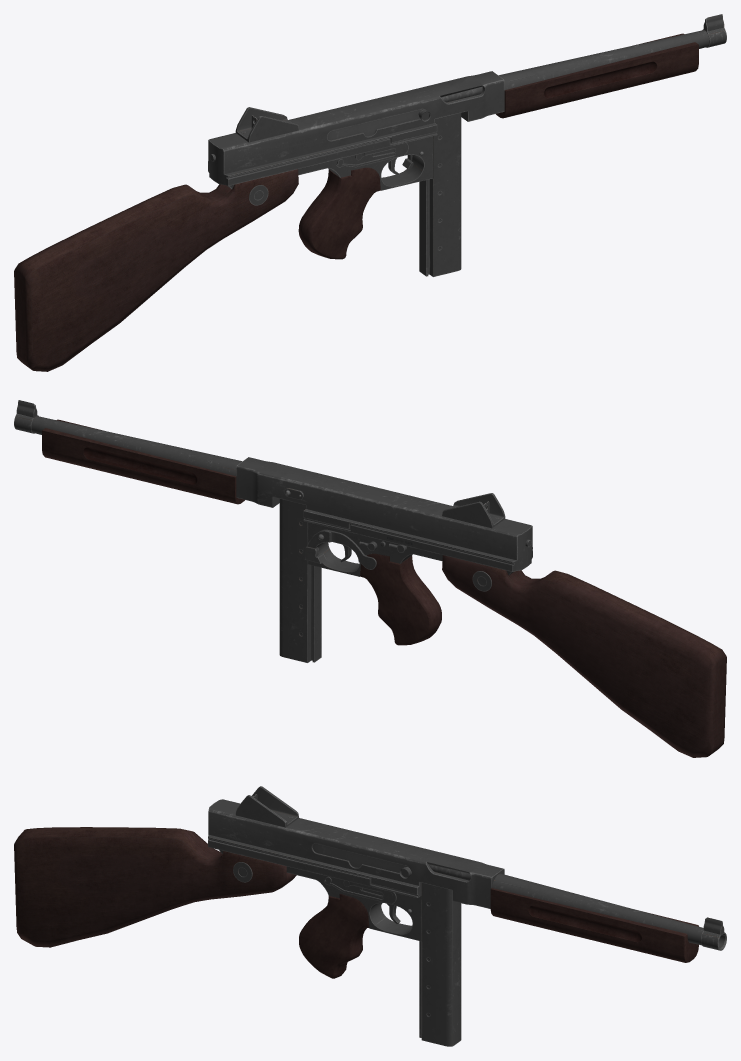
File: thommy gun.glb
The picture shows the model from 3 angles, top to bottom: view 1: azimuth 30°, elevation 25°; view 2: azimuth 150°, elevation 25°; view 3: azimuth 330°, elevation 25°; orthographic projection.
Visible parts, largest first — view 1: Cube.003_4, Cube.001_1, Cube.002_2, Cube.004_3; view 2: Cube.003_4, Cube.001_1, Cube.002_2, Cube.004_3, Cube.016_0; view 3: Cube.003_4, Cube.001_1, Cube.002_2, Cube.004_3.
Boxes of the visible parts, box(x1,y1,x2,y2) form: Cube.003_4: box(208, 14, 726, 276); Cube.001_1: box(14, 169, 298, 371); Cube.002_2: box(496, 33, 698, 118); Cube.004_3: box(298, 167, 380, 259); Cube.003_4: box(14, 400, 532, 662); Cube.001_1: box(442, 555, 726, 757); Cube.002_2: box(42, 419, 244, 504); Cube.004_3: box(360, 553, 441, 645); Cube.016_0: box(305, 529, 376, 569); Cube.003_4: box(208, 786, 726, 1046); Cube.001_1: box(14, 827, 296, 947); Cube.002_2: box(490, 888, 698, 962); Cube.004_3: box(299, 894, 369, 978).
Size of the model in its own units: 4.12 by 1.14 by 0.2152.
6 materials, 6 textured.
